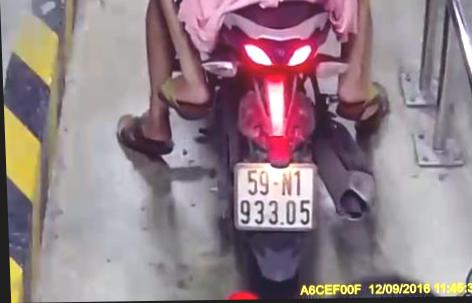License_Plate: (222, 154, 320, 242)
